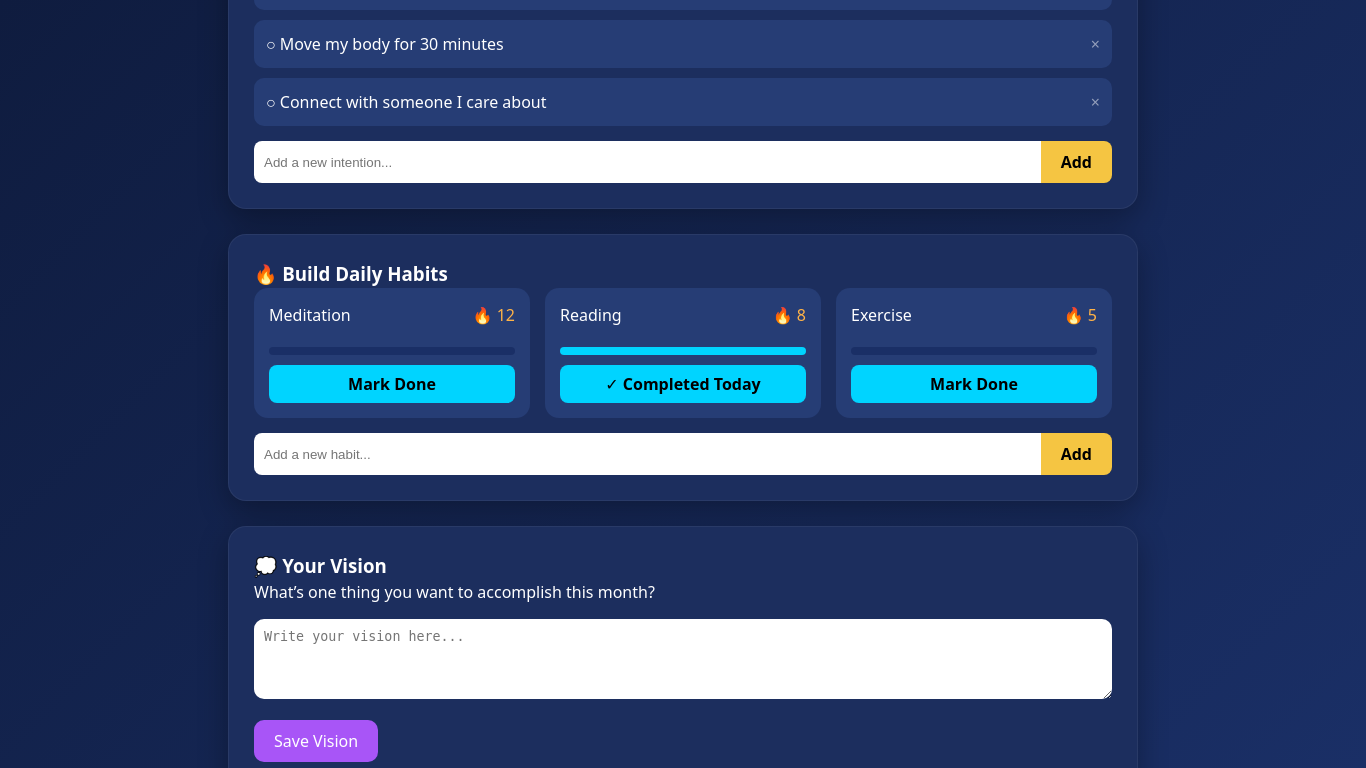
DailyMotivation › toggles a habit and updates its streak
Expected: the text "Meditation" is shown, [269,304,351,326]
Expected: the text "🔥 12" is shown, [472,303,515,327]
Click the button "Mark Done" below "Meditation" at [392, 384], box [269,365,515,403]
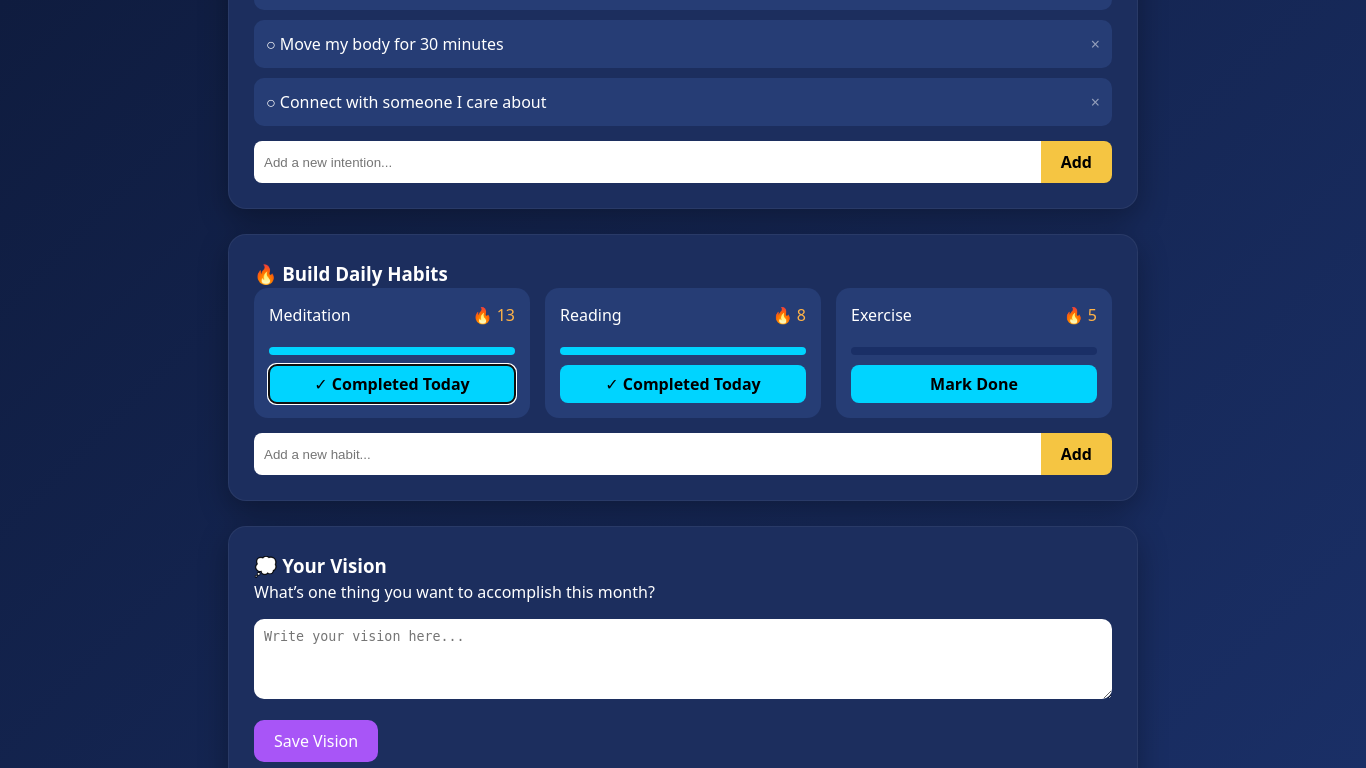
Now the button "✓ Completed Today" below "Meditation" is shown
Now the text "🔥 13" is shown, box [472,303,515,327]
Click the button "✓ Completed Today" below "Meditation" at [392, 384], box [269,365,515,403]
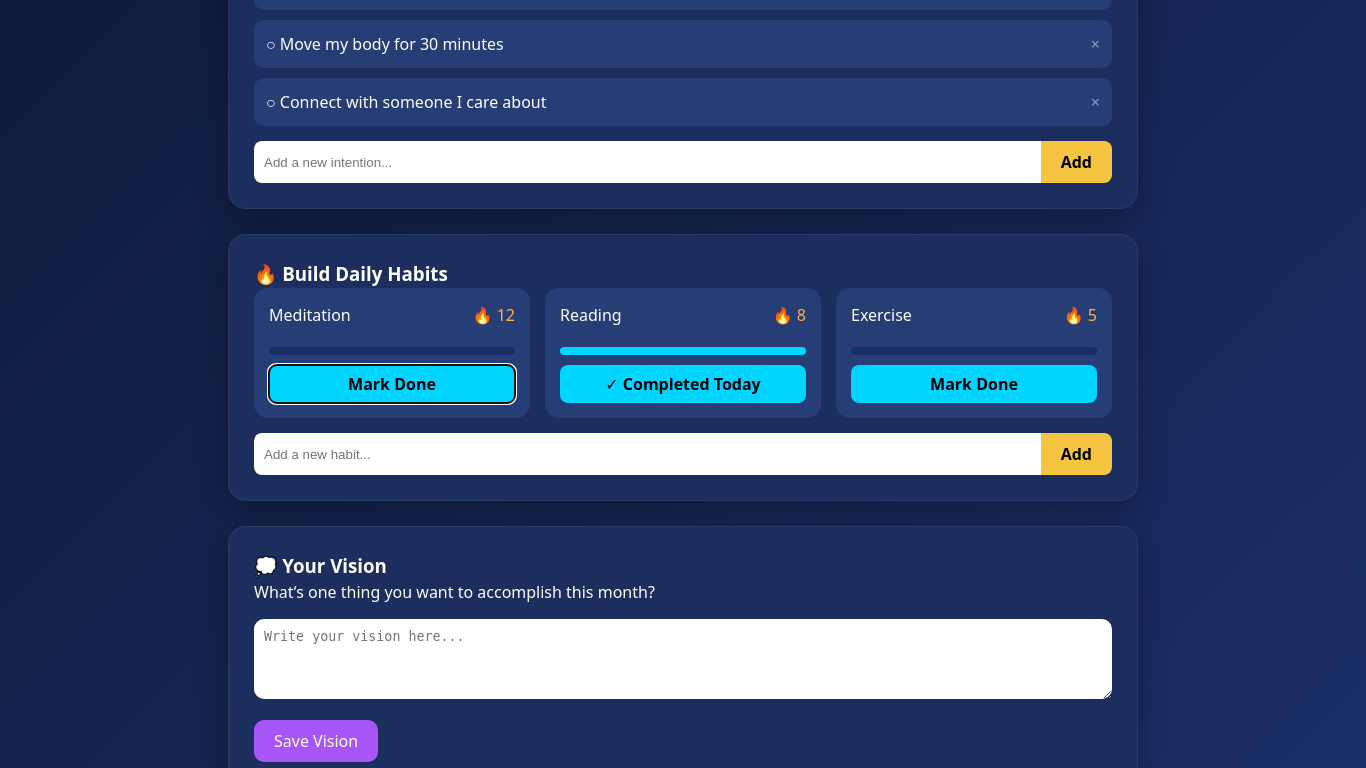
Now the button "Mark Done" below "Meditation" is shown, box [269,365,515,403]
Now the text "🔥 12" is shown, box [472,303,515,327]
